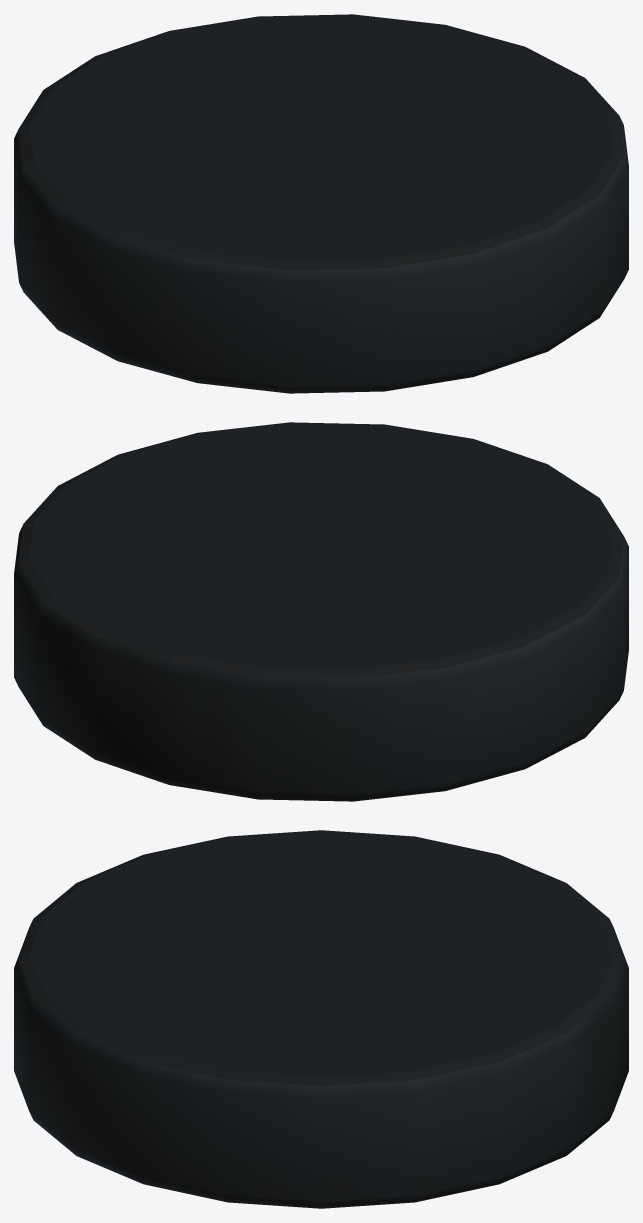
The model's file is 4_nosepiece.obj.
3 renders of one model, top to bottom at view 1: azimuth 30°, elevation 25°; view 2: azimuth 150°, elevation 25°; view 3: azimuth 270°, elevation 25°, orthographic.
Size of the model in its own units: 0.32 by 0.075 by 0.32.
Materials: 1 (1 with a texture image).
